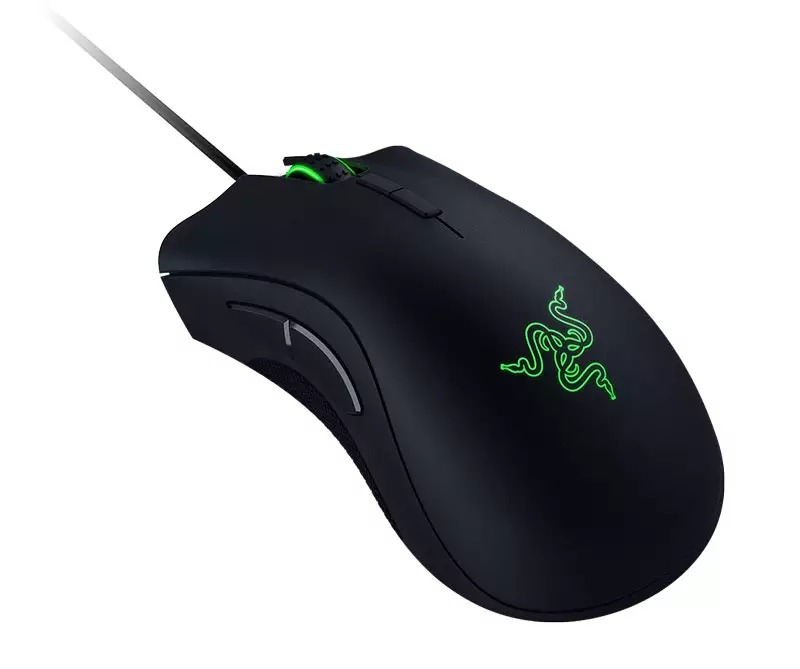mouse: (146, 141, 728, 642)
